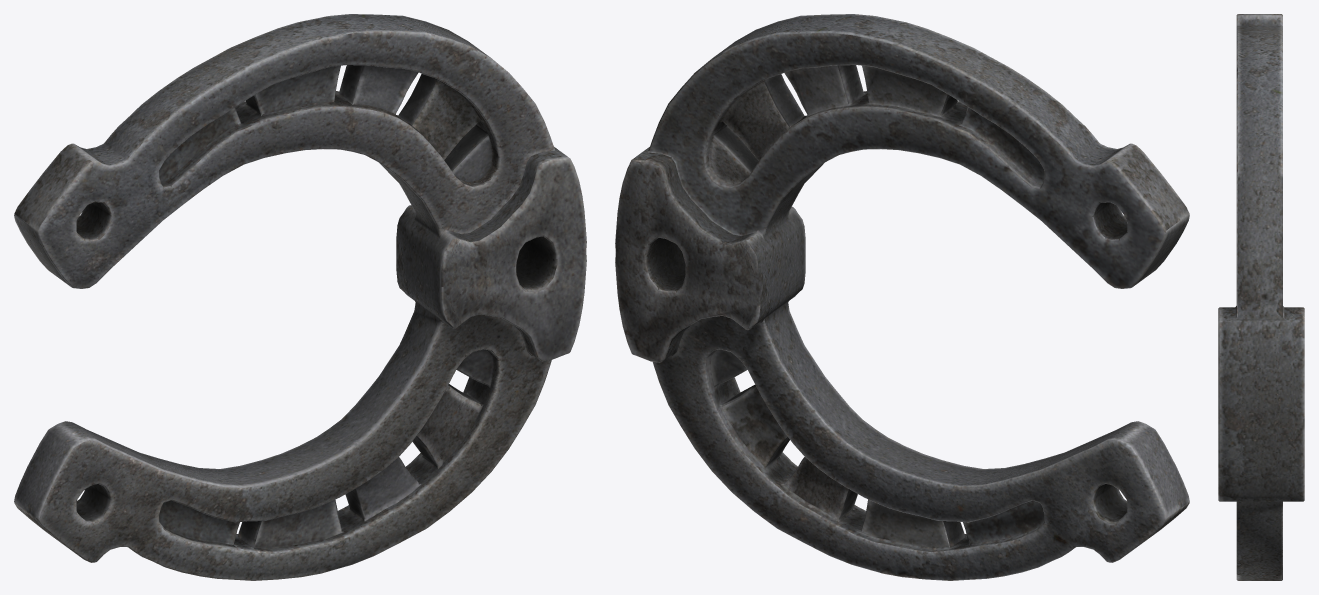
The model's file is Horseshoe_Brian2.obj.
3 views of the same model, side by side, from view 1: azimuth 30°, elevation 25°; view 2: azimuth 150°, elevation 25°; view 3: azimuth 270°, elevation 25° (orthographic). The views are drawn at different scales.
Visible parts, largest first — view 1: Plane.000_Plane.008; view 2: Plane.000_Plane.008; view 3: Plane.000_Plane.008.
Boxes of the visible parts, <box> form: Plane.000_Plane.008: <box>14,14,586,580</box>; Plane.000_Plane.008: <box>615,14,1189,580</box>; Plane.000_Plane.008: <box>1218,14,1304,580</box>.
Bounding box in the file's own units: 144 × 136 × 21.53.
